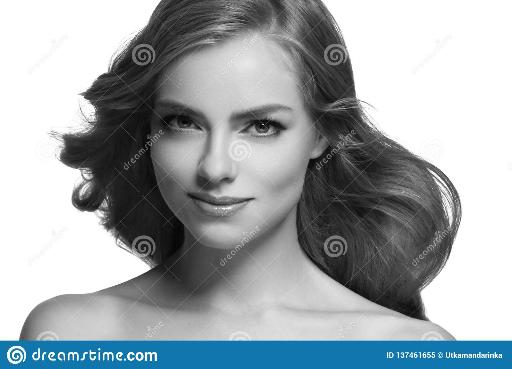left_eye: (242, 119, 288, 141)
left_lip_corner: (241, 195, 260, 209)
right_eye: (162, 115, 203, 135)
right_lip_corner: (185, 192, 198, 204)
